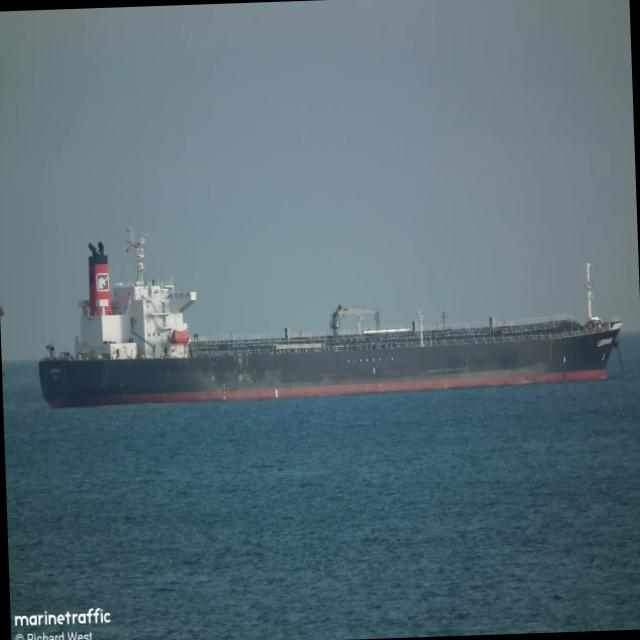Tanker: (39, 236, 621, 407)
